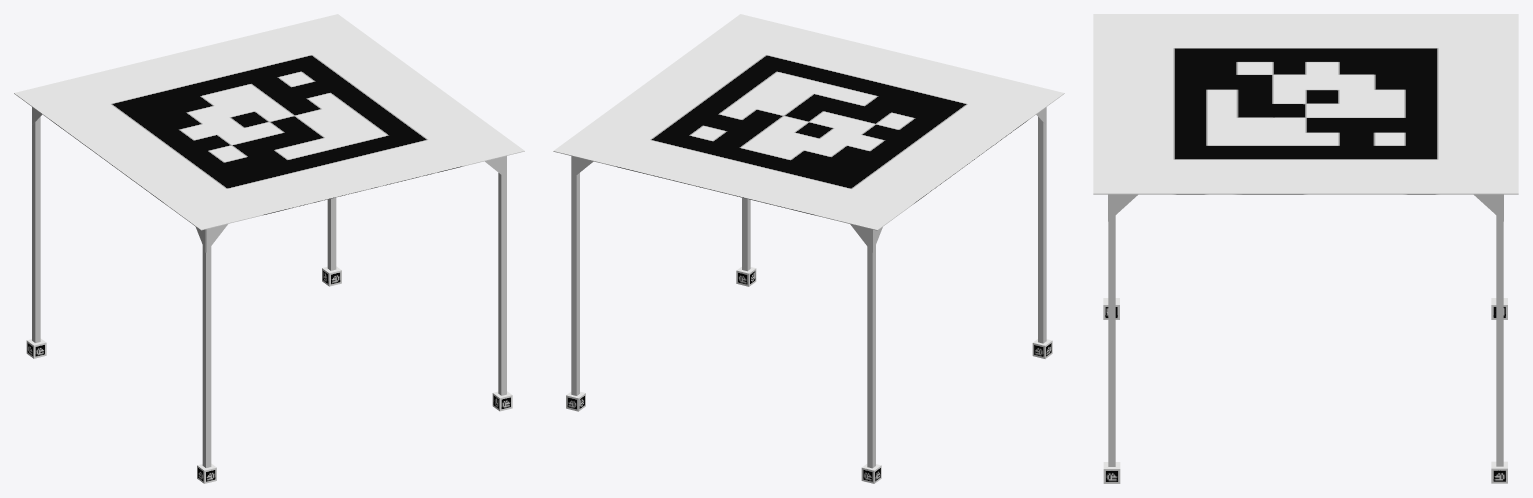
The model's file is drone_stand.dae.
3 renders of one model, left to right at view 1: azimuth 30°, elevation 25°; view 2: azimuth 150°, elevation 25°; view 3: azimuth 270°, elevation 25°, orthographic. The views are drawn at different scales.
Parts seen in each view (by area): view 1: Landing_Pad, Legs, leg_tags; view 2: Landing_Pad, Legs, leg_tags; view 3: Landing_Pad, Legs, leg_tags.
Part boxes in pixels (x1,y1,x2,y2): Landing_Pad: (14,14,524,230); Legs: (32,107,506,467); leg_tags: (26,266,512,483); Landing_Pad: (553,14,1064,230); Legs: (571,107,1046,468); leg_tags: (566,267,1052,483); Landing_Pad: (1093,14,1518,194); Legs: (1108,194,1503,466); leg_tags: (1103,298,1507,483).
Size of the model in its own units: 1.14 by 1.14 by 0.8739.
